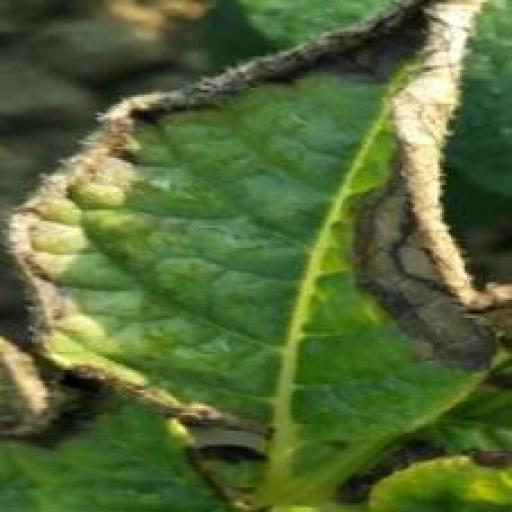disease_tomato: (2, 0, 511, 507)
